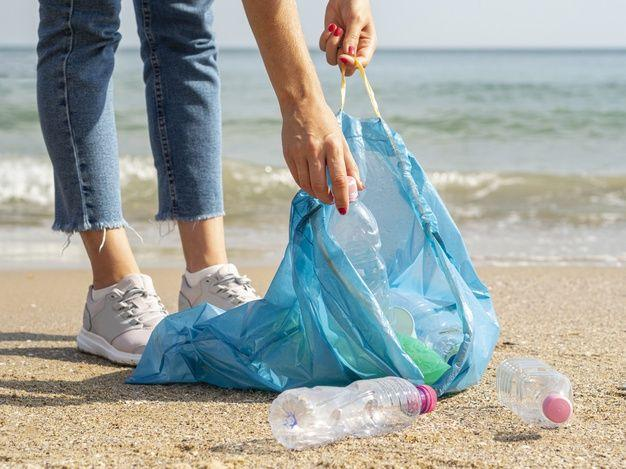HDPE: (542, 394, 573, 424), (332, 176, 359, 200), (418, 380, 437, 414)
PETE: (268, 376, 426, 453), (325, 200, 394, 324), (495, 357, 572, 428)
